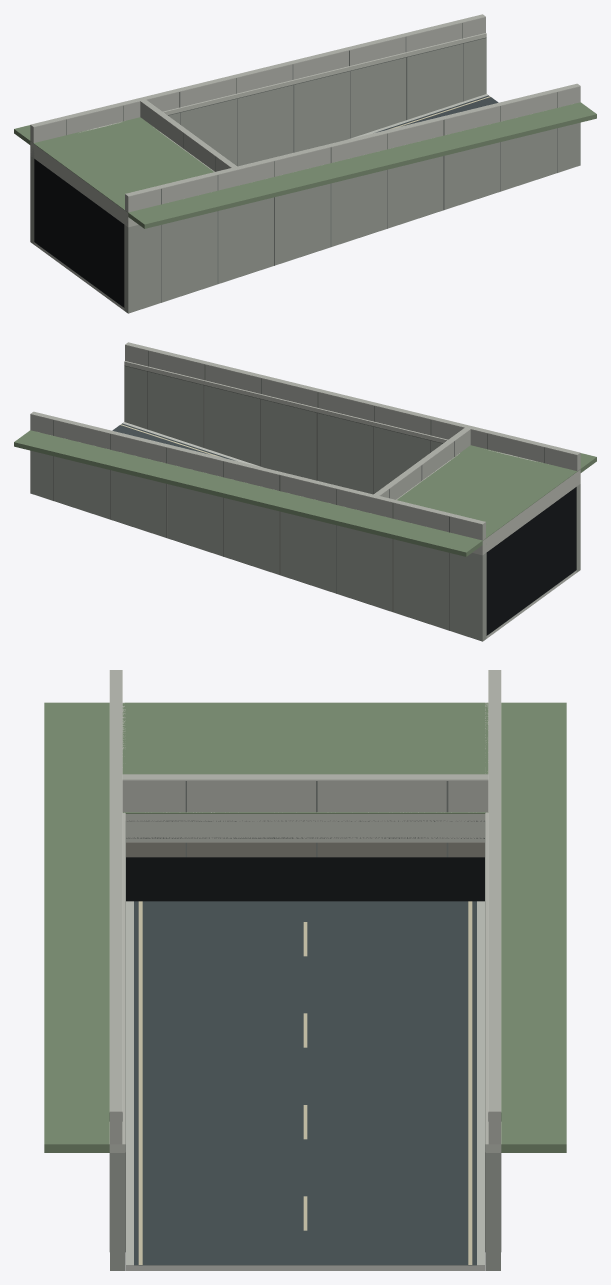
Rendered from tunnel-sample-01.glb.
3 renders of one model, top to bottom at view 1: azimuth 30°, elevation 25°; view 2: azimuth 150°, elevation 25°; view 3: azimuth 270°, elevation 25°, orthographic. The views are drawn at different scales.
Visible parts, largest first — view 1: SideGround, CoverGround, ClosedDarkEnd, Side-1_LowerMember, Side-1_LowerMember.001, Side1_LowerMember.004, Side-1_LowerMember.002, Side1_LowerMember.005, Side-1_LowerMember.003, Side1_LowerMember.006, Side-1_LowerMember.004, Side1_LowerMember.007 (+27 smaller); view 2: SideGround.001, CoverGround, ClosedDarkEnd, Side1_LowerMember, Side1_LowerMember.001, Side-1_LowerMember.004, Side1_LowerMember.002, Side-1_LowerMember.005, Side1_LowerMember.003, Side-1_LowerMember.006, Side1_LowerMember.004, Side-1_LowerMember.007 (+27 smaller); view 3: Asphalt, SideGround, SideGround.001, CoverGround, ClosedDarkEnd, CoverSlab, Portal_Barrier.001, Portal_Barrier, Portal_Barrier.002, Shoulder, Shoulder.001, ClosedRoadFloor (+9 smaller).
Boxes of the visible parts, x1=… form: SideGround: x1=128, y1=102, x2=596, y2=228; CoverGround: x1=30, y1=117, x2=213, y2=212; ClosedDarkEnd: x1=34, y1=159, x2=124, y2=307; Side-1_LowerMember: x1=124, y1=217, x2=184, y2=313; Side-1_LowerMember.001: x1=184, y1=205, x2=241, y2=294; Side1_LowerMember.004: x1=260, y1=79, x2=316, y2=160; Side-1_LowerMember.002: x1=241, y1=191, x2=297, y2=276; Side1_LowerMember.005: x1=317, y1=65, x2=373, y2=146; Side-1_LowerMember.003: x1=298, y1=178, x2=354, y2=257; Side1_LowerMember.006: x1=373, y1=52, x2=430, y2=130; Side-1_LowerMember.004: x1=354, y1=164, x2=410, y2=239; Side1_LowerMember.007: x1=430, y1=38, x2=486, y2=112; SideGround.001: x1=14, y1=430, x2=482, y2=556; CoverGround: x1=397, y1=445, x2=580, y2=540; ClosedDarkEnd: x1=486, y1=487, x2=576, y2=635; Side1_LowerMember: x1=426, y1=547, x2=486, y2=641; Side1_LowerMember.001: x1=369, y1=533, x2=426, y2=622; Side-1_LowerMember.004: x1=294, y1=407, x2=350, y2=488; Side1_LowerMember.002: x1=313, y1=519, x2=369, y2=604; Side-1_LowerMember.005: x1=237, y1=393, x2=293, y2=474; Side1_LowerMember.003: x1=256, y1=506, x2=312, y2=585; Side-1_LowerMember.006: x1=180, y1=380, x2=237, y2=458; Side1_LowerMember.004: x1=200, y1=492, x2=256, y2=567; Side-1_LowerMember.007: x1=124, y1=366, x2=180, y2=440; Asphalt: x1=134, y1=901, x2=476, y2=1265; SideGround: x1=44, y1=702, x2=109, y2=1152; SideGround.001: x1=501, y1=702, x2=566, y2=1152; CoverGround: x1=122, y1=702, x2=488, y2=813; ClosedDarkEnd: x1=126, y1=857, x2=484, y2=901; CoverSlab: x1=125, y1=814, x2=485, y2=842; Portal_Barrier.001: x1=240, y1=774, x2=370, y2=812; Portal_Barrier: x1=122, y1=774, x2=240, y2=812; Portal_Barrier.002: x1=370, y1=774, x2=488, y2=812; Shoulder: x1=126, y1=901, x2=133, y2=1265; Shoulder.001: x1=477, y1=901, x2=484, y2=1265; ClosedRoadFloor: x1=126, y1=1265, x2=484, y2=1270.
Size of the model in its own units: 32 by 7.94 by 16.
